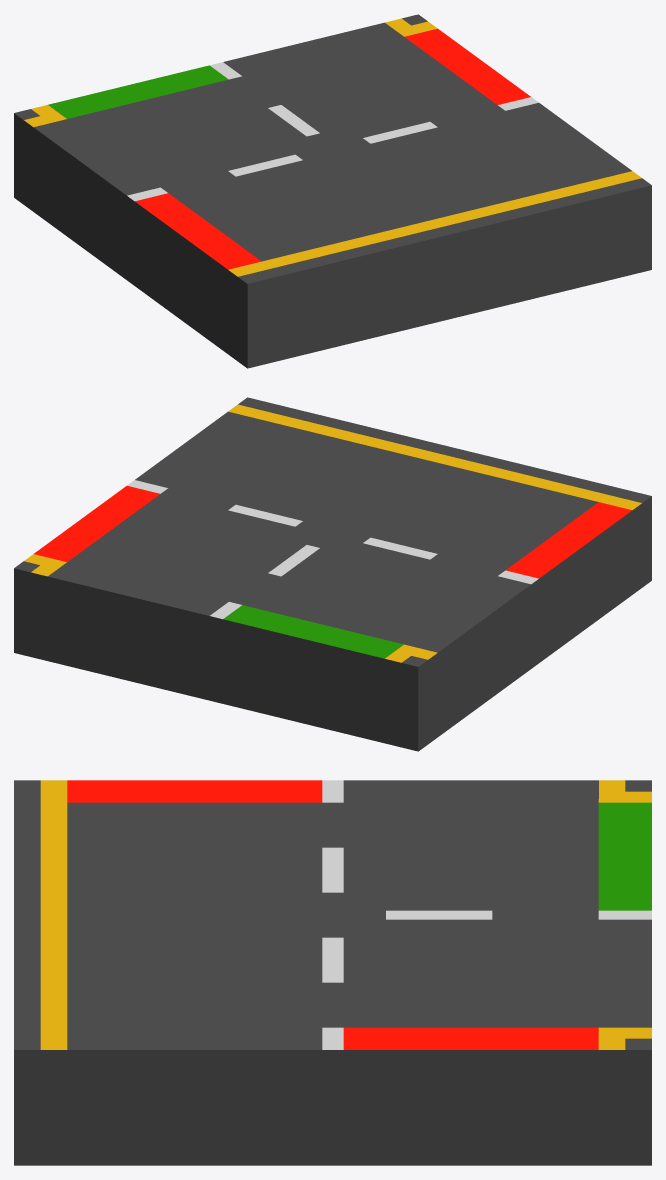
Rendered from ExportedBlenderFBXFile.fbx.
The picture shows the model from 3 angles, top to bottom: view 1: azimuth 30°, elevation 25°; view 2: azimuth 150°, elevation 25°; view 3: azimuth 270°, elevation 25°; orthographic projection. The views are drawn at different scales.
Visible parts, largest first — view 1: Cube; view 2: Cube; view 3: Cube.
Boxes of the visible parts, <box> form: Cube: <box>14,14,651,368</box>; Cube: <box>14,397,651,751</box>; Cube: <box>14,780,651,1165</box>.
Bounding box in the file's own units: 1 × 0.2 × 1.
